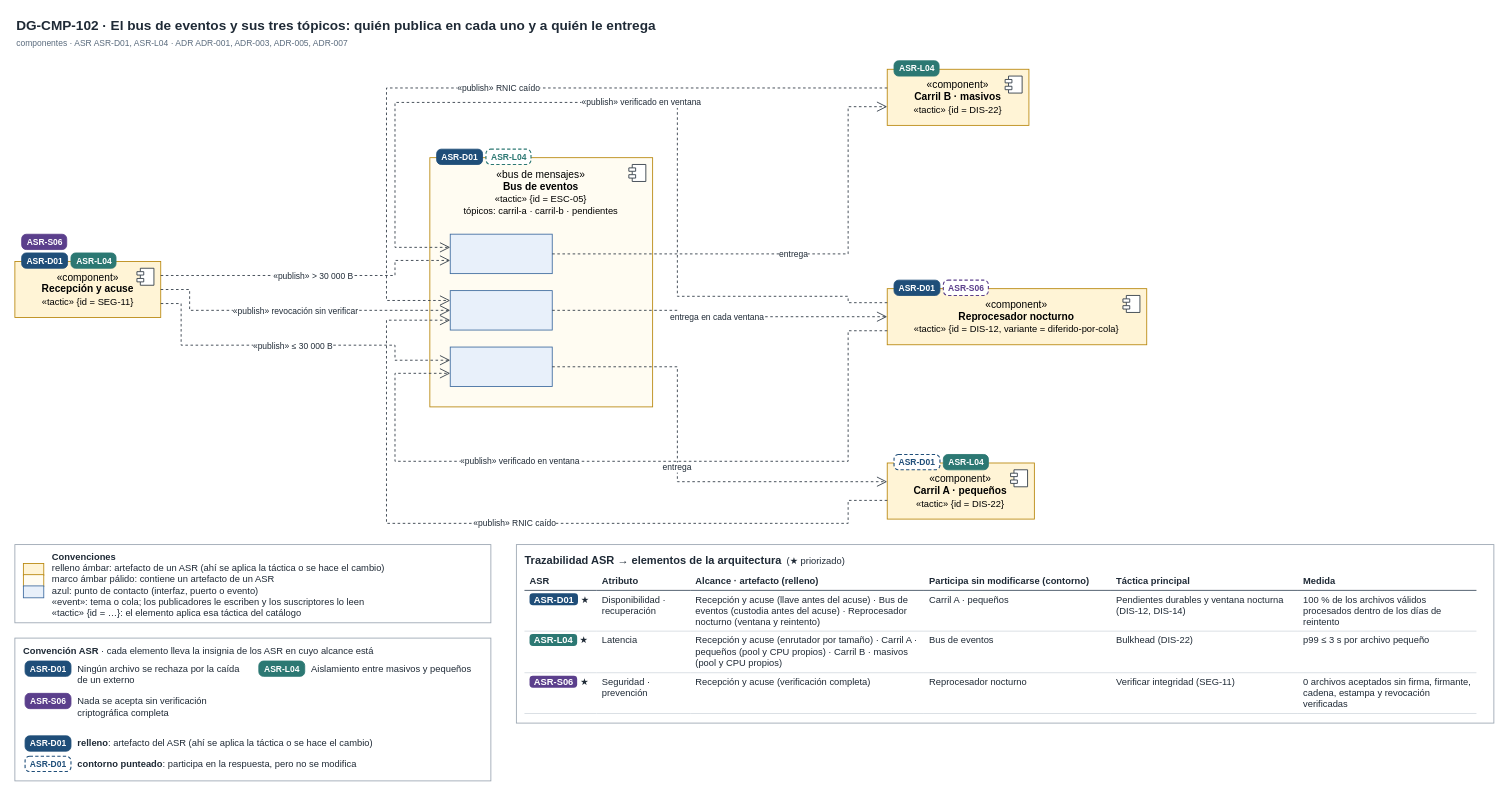
Image size: 1509x796. Some labels were removed from this diagram. Here are the shapes that lost their labels. From the top down, the centre of each, then its label:
the point at 500,253: «event» carril-b
the point at 500,310: «event» pendientes
the point at 500,366: «event» carril-a
